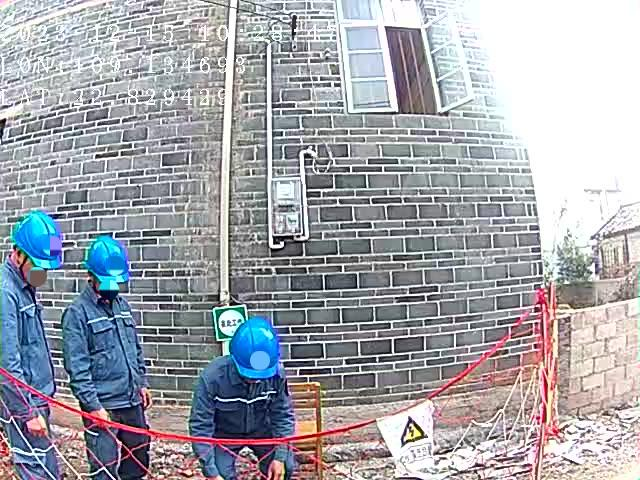halt: (14, 213, 65, 284), (232, 320, 284, 383), (88, 239, 133, 299)
